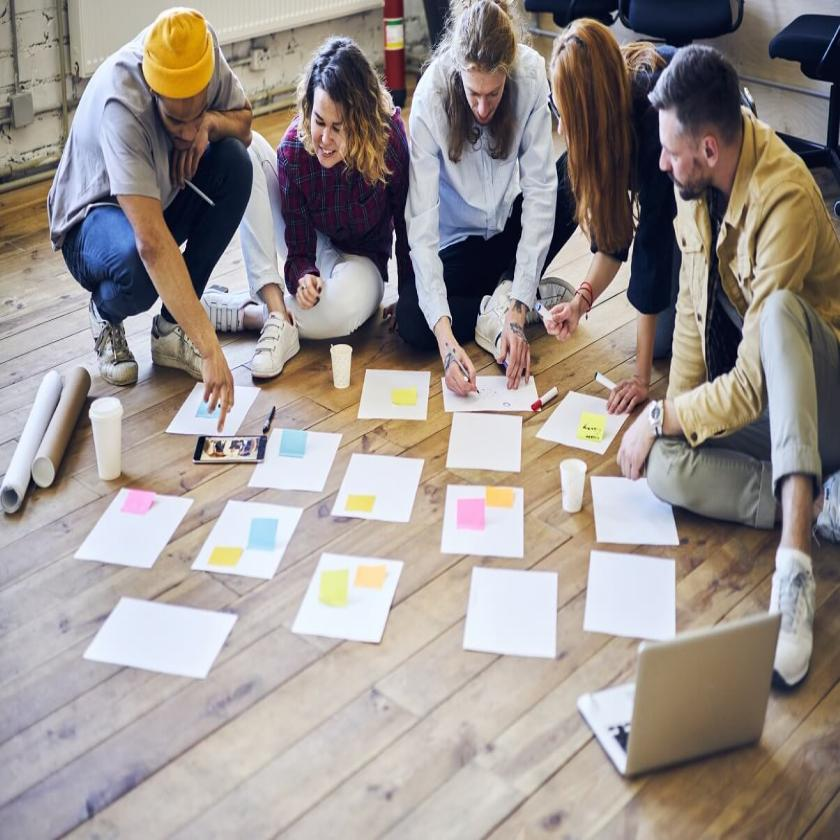Sin_casco: (647, 43, 738, 210), (539, 12, 622, 158), (299, 36, 383, 174), (454, 1, 520, 137)
